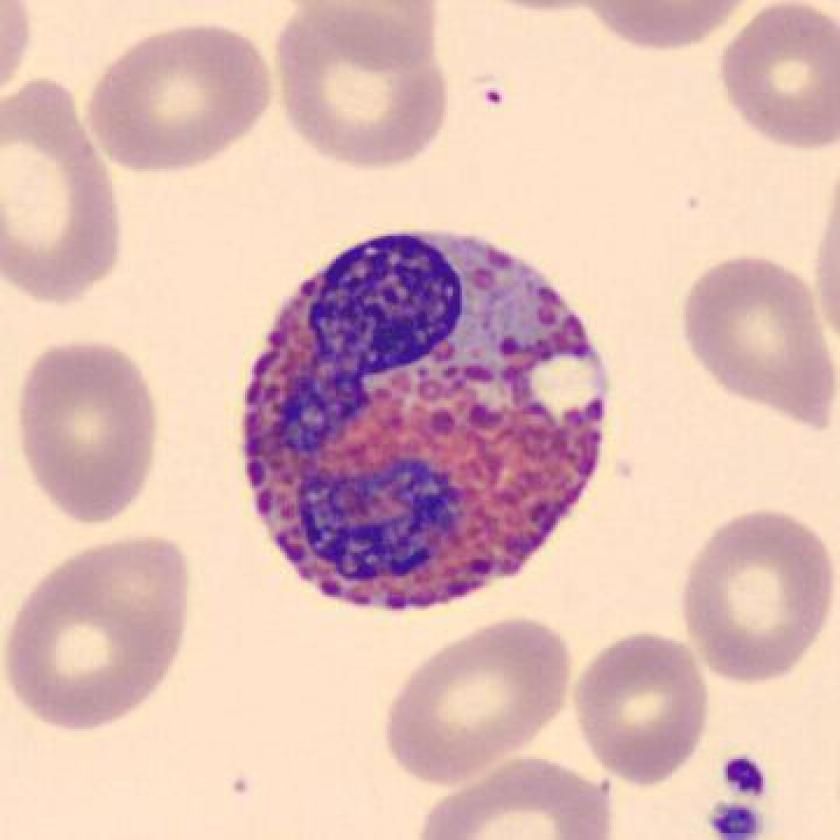eosinophil: (232, 216, 622, 626)
